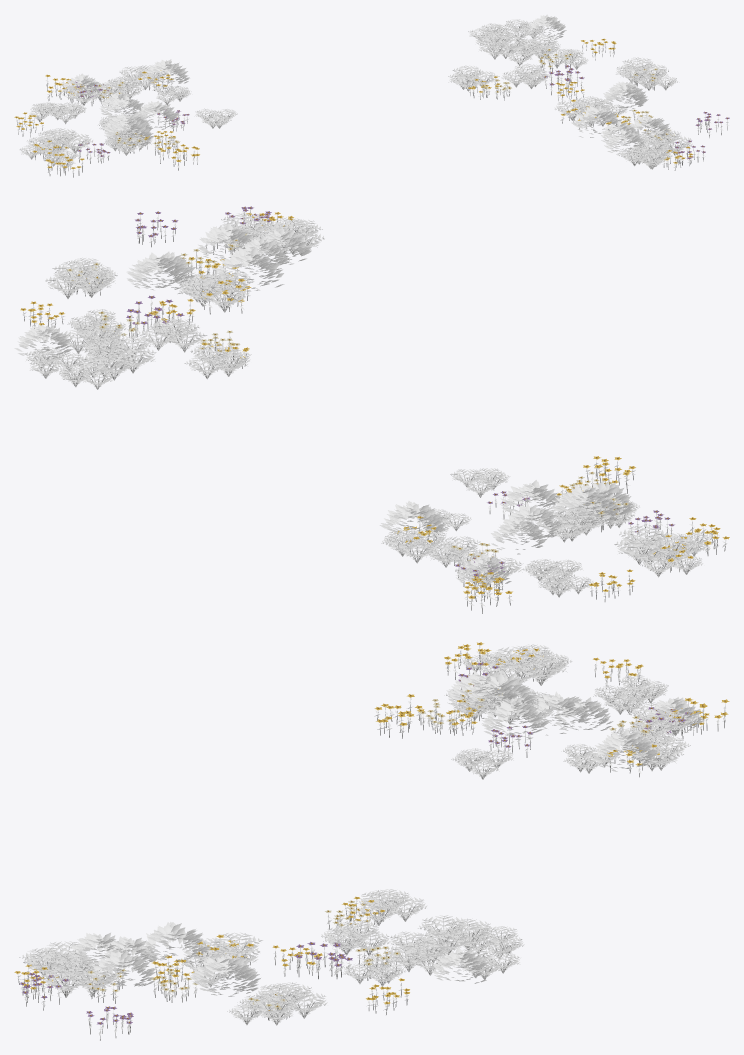
Rendered from SM_DF_Explorer_3_2_Flora.fbx.
The picture shows the model from 3 angles, top to bottom: view 1: azimuth 30°, elevation 25°; view 2: azimuth 150°, elevation 25°; view 3: azimuth 270°, elevation 25°; orthographic projection. The views are drawn at different scales.
Parts seen in each view (by area): view 1: SM_DF_Explorer_3_2_Flora; view 2: SM_DF_Explorer_3_2_Flora; view 3: SM_DF_Explorer_3_2_Flora.
Boxes of the visible parts, bbox=[...] form: SM_DF_Explorer_3_2_Flora: bbox=[14, 14, 729, 177]; SM_DF_Explorer_3_2_Flora: bbox=[14, 206, 729, 613]; SM_DF_Explorer_3_2_Flora: bbox=[14, 642, 729, 1040].
Size of the model in its own units: 2769 by 2125 by 196.
